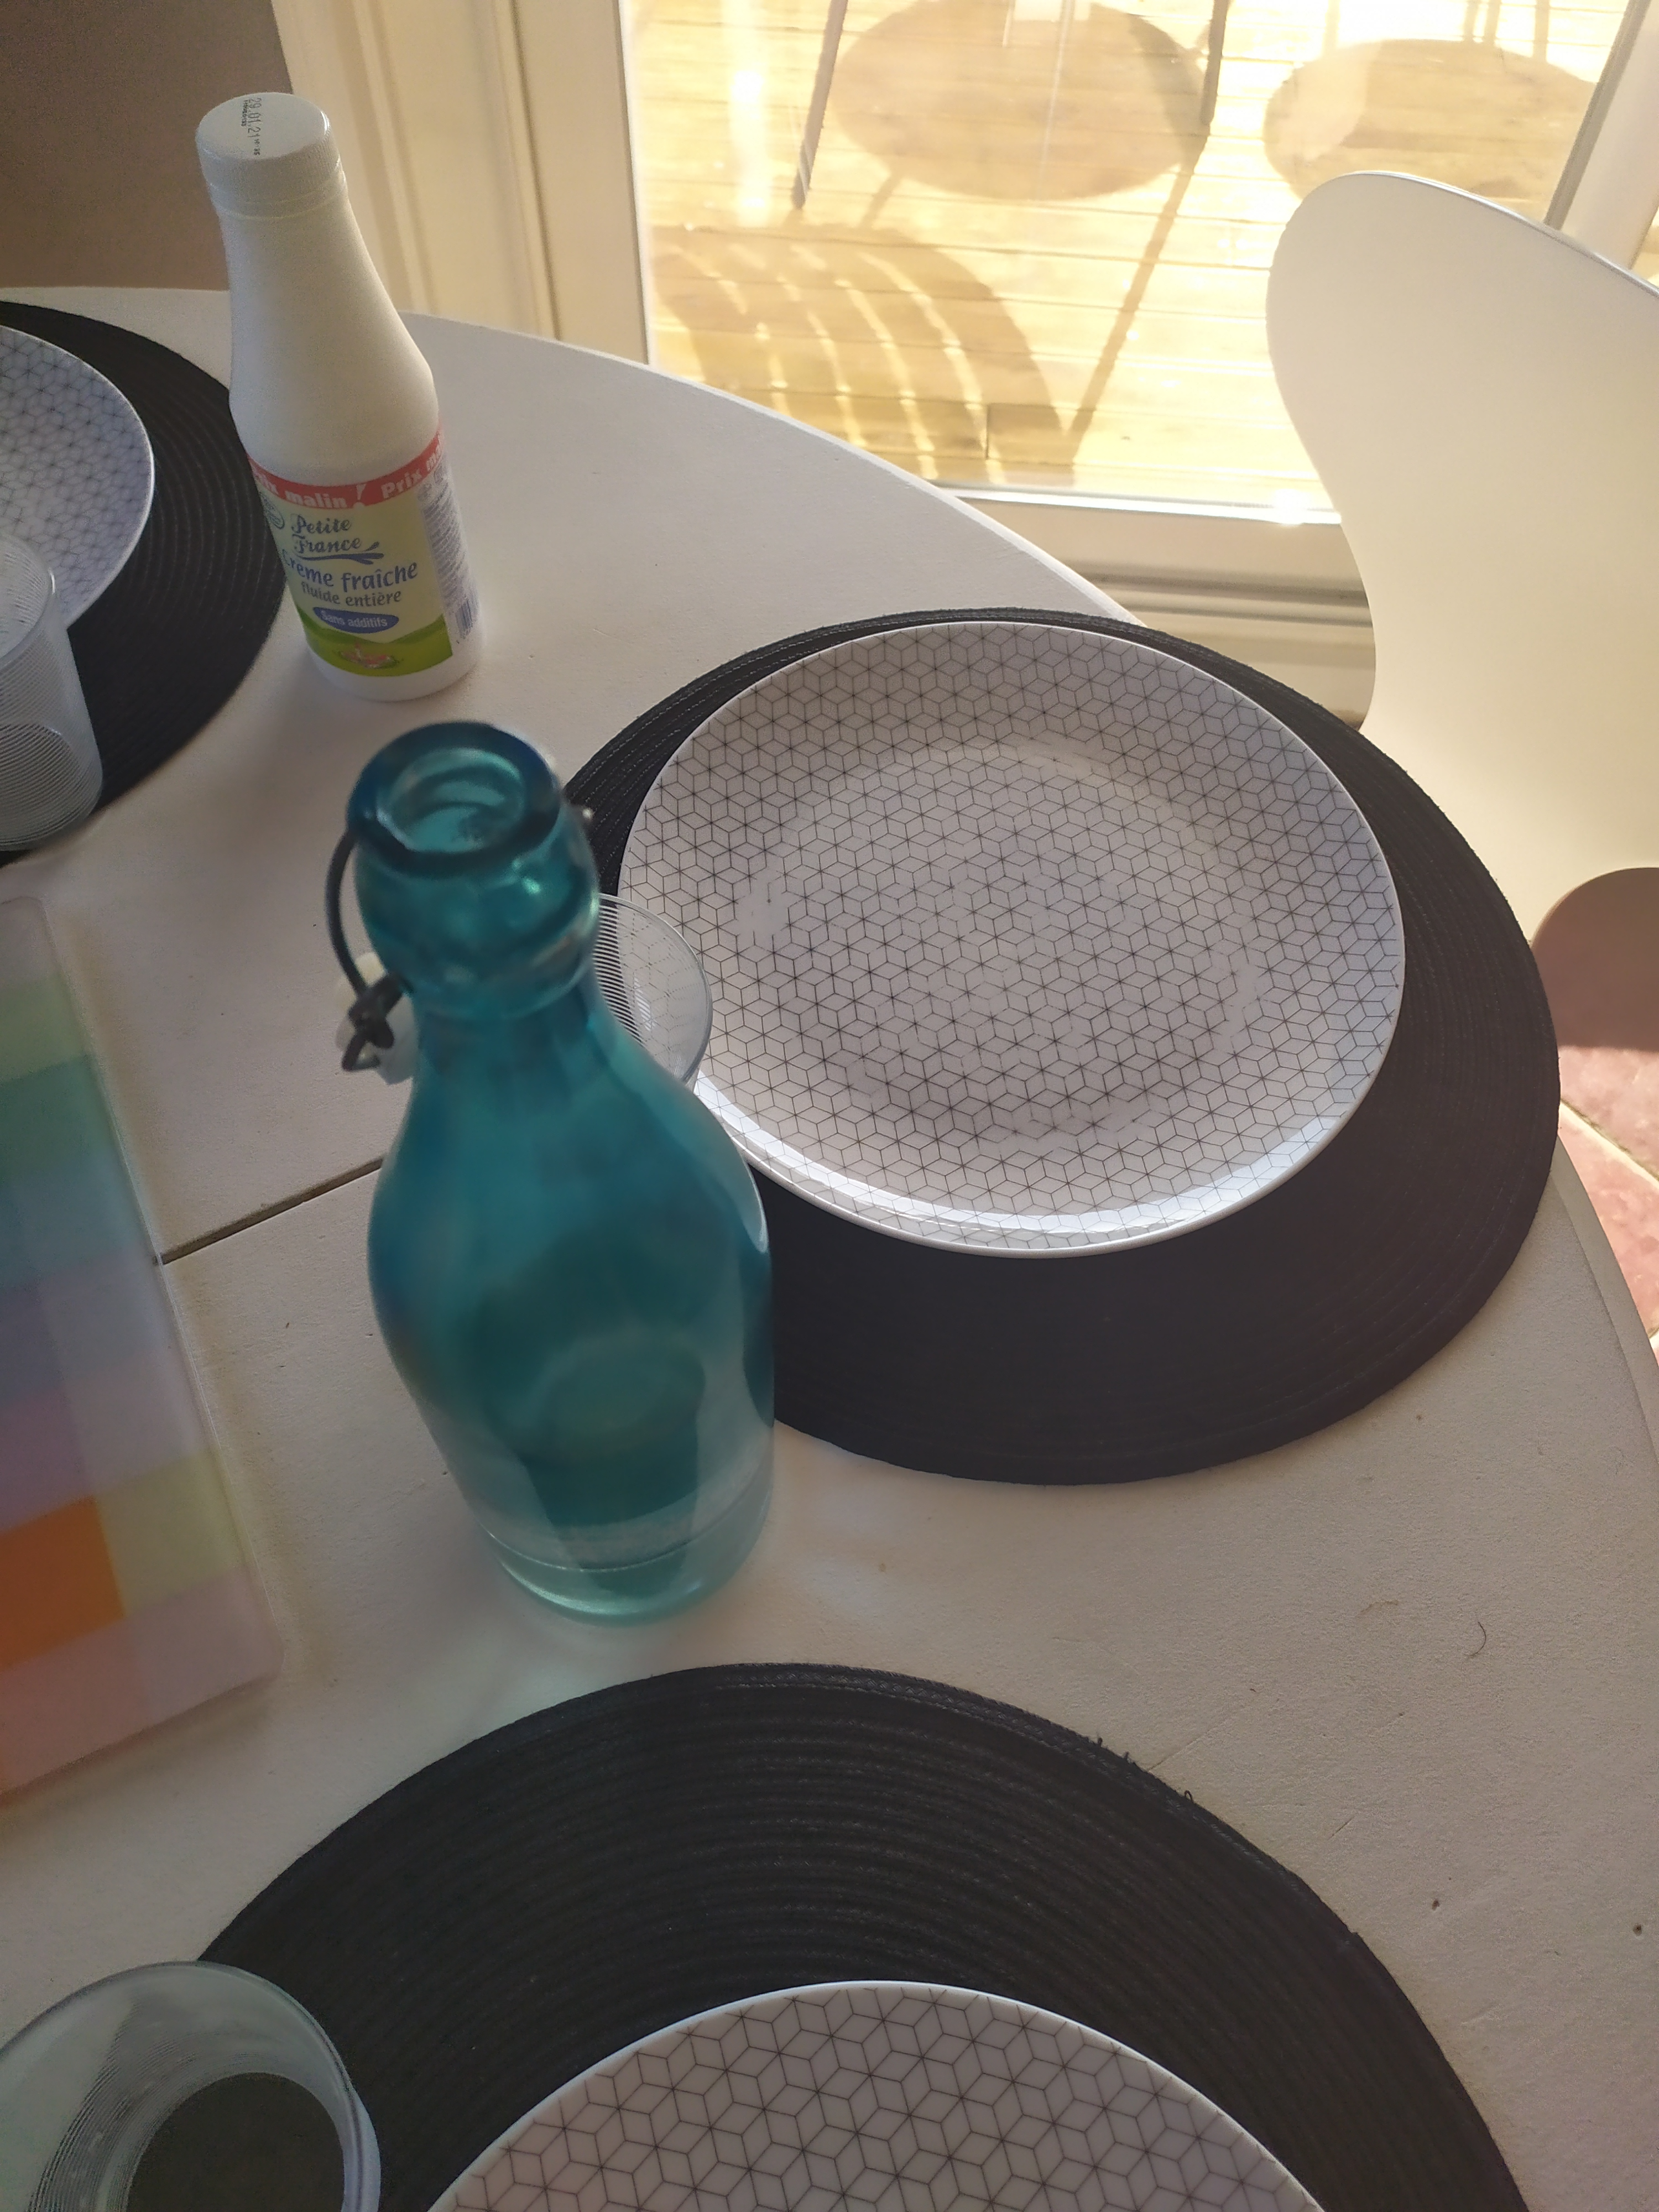bottle: (326, 723, 777, 1632), (197, 94, 491, 693)
